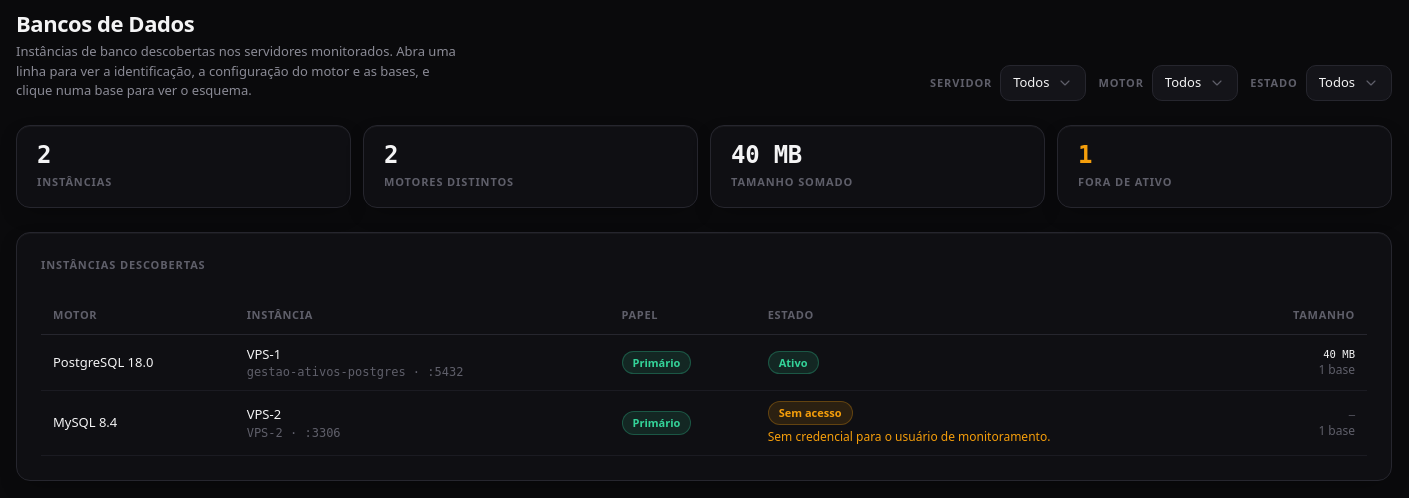
Scenario: BancosView — filtros › cruzamento sem resultado não se confunde com lista vazia
Click the dropdown named "Servidor". click: click(1043, 83)
box: [1000,65,1086,101]
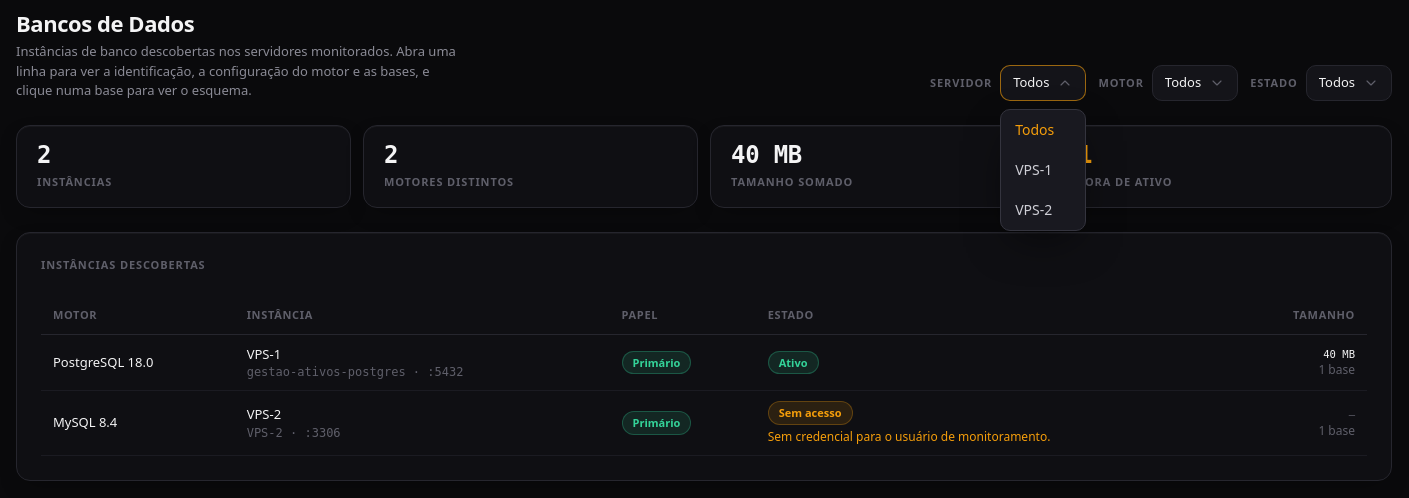
Click the option "VPS-2". click: click(1034, 209)
box: [1015,200,1052,219]
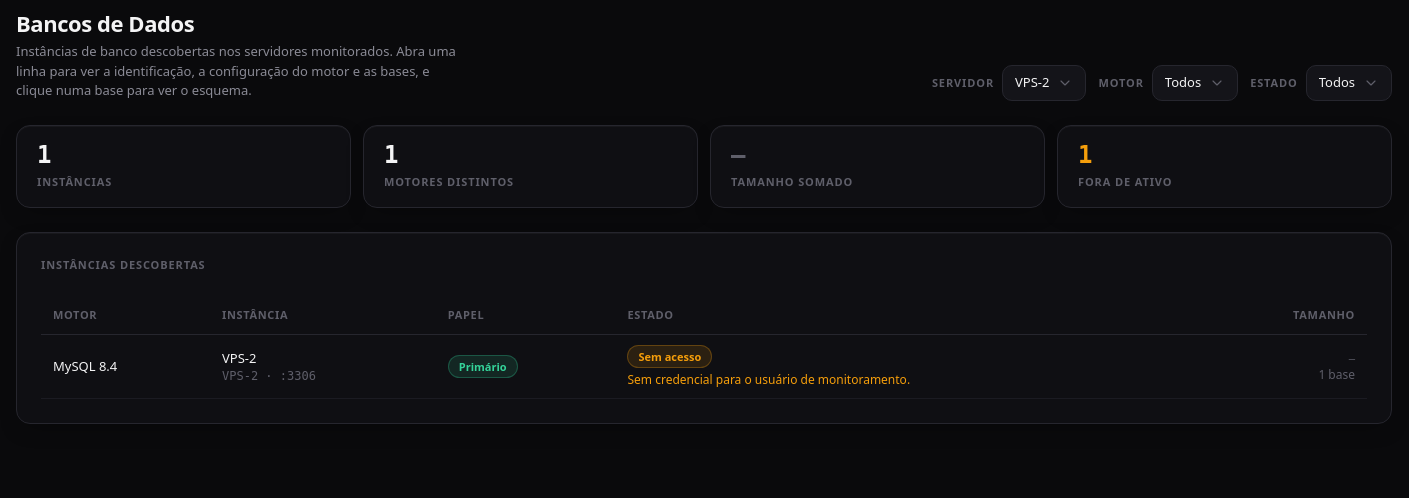
Click the dropdown named "Motor". click: click(1195, 83)
box: [1152,65,1238,101]
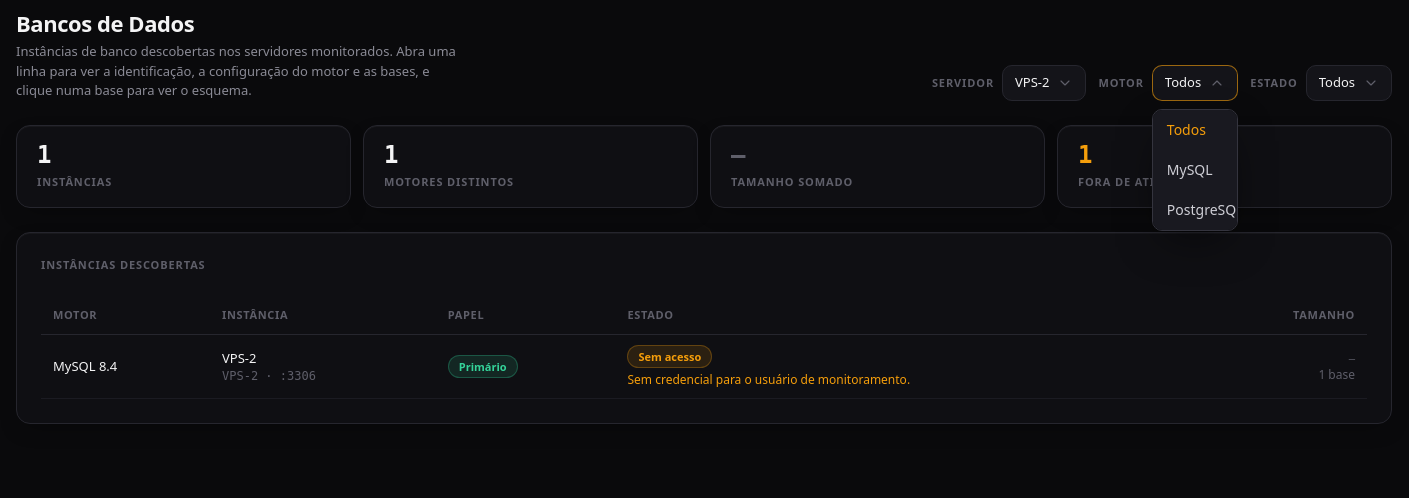
Click the option "PostgreSQL". click: click(1205, 209)
box: [1167,200,1244,219]
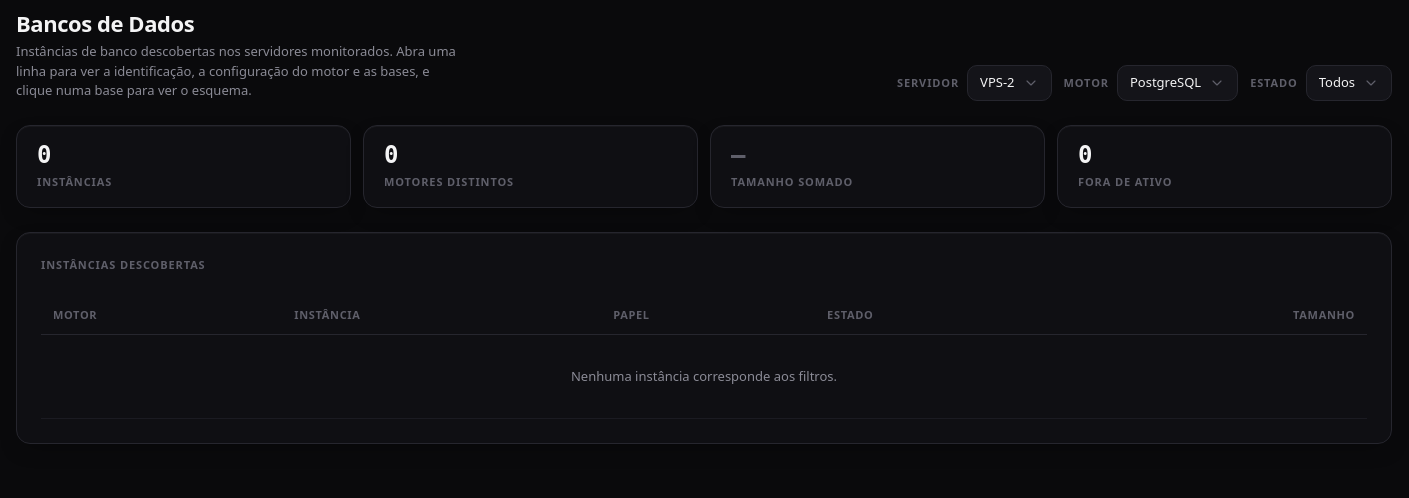
Now no buttons with test id "instancia" are shown
Now the text "Nenhuma instância corresponde aos filtros." is shown, box [41,334,1367,419]
